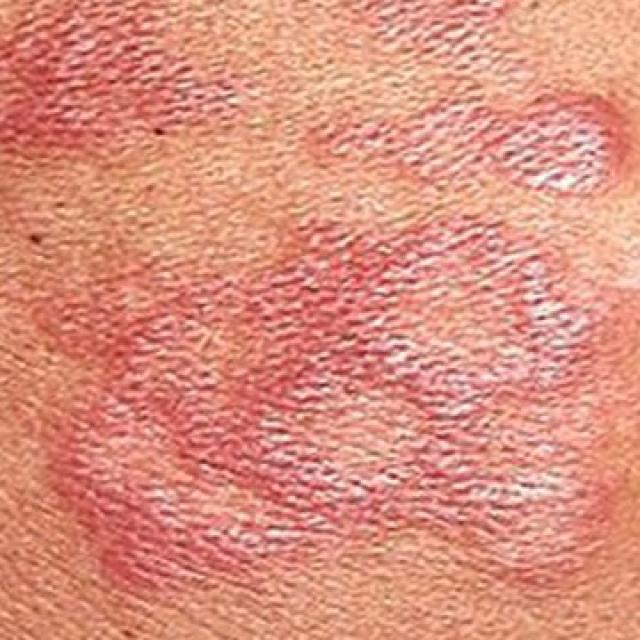Leprosy: (37, 215, 619, 612), (0, 0, 268, 163), (316, 92, 638, 200), (334, 0, 560, 78)
